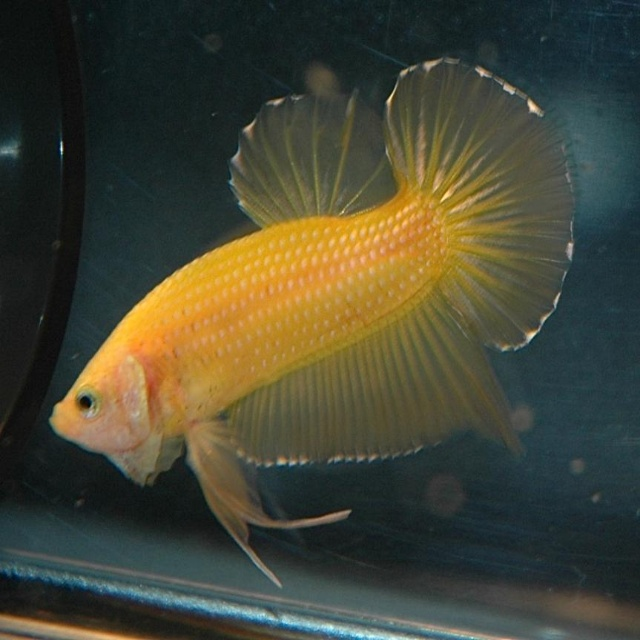Goldfish: (28, 71, 591, 586)
